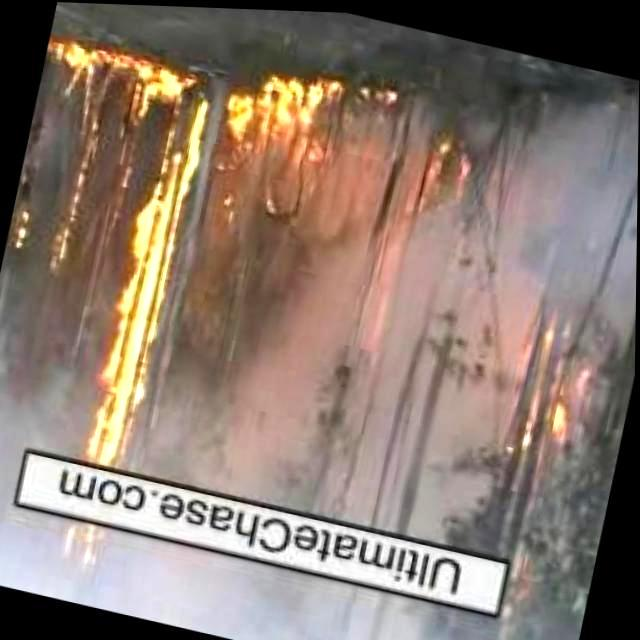fire: (49, 41, 215, 576), (502, 308, 606, 482), (224, 46, 354, 166), (418, 125, 484, 223), (43, 36, 127, 84)
